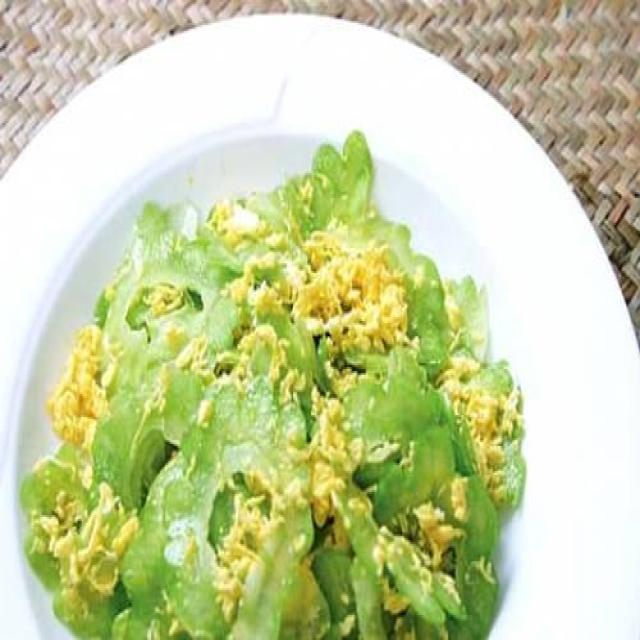kho qua: (20, 131, 525, 638)
